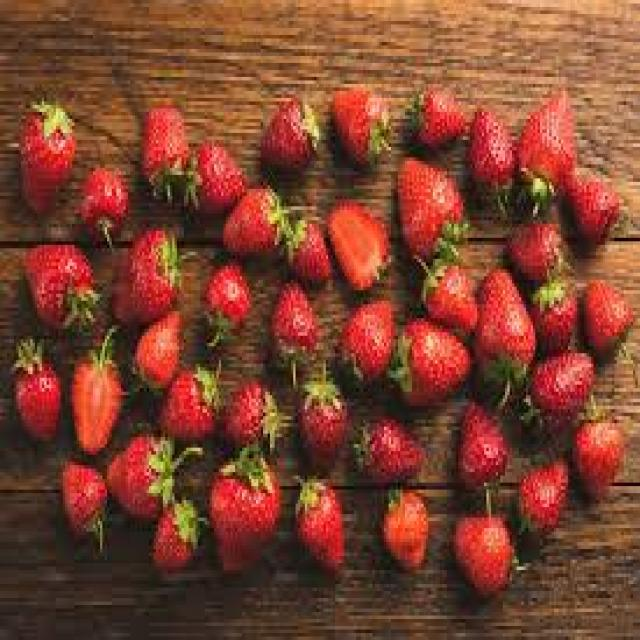strawberry: (12, 82, 83, 225), (202, 444, 280, 569), (472, 256, 537, 389), (388, 156, 472, 257), (516, 81, 577, 219), (386, 309, 469, 407), (15, 234, 97, 330), (116, 220, 185, 327), (65, 326, 122, 454), (447, 506, 522, 600), (132, 99, 192, 207), (290, 475, 352, 576), (4, 339, 64, 442), (451, 403, 514, 497), (99, 440, 173, 518), (268, 281, 324, 384), (325, 75, 391, 161), (466, 95, 515, 210), (326, 200, 388, 288), (256, 84, 318, 169), (585, 263, 636, 362), (51, 458, 112, 540), (570, 418, 630, 501), (355, 405, 427, 474), (530, 348, 597, 422), (294, 383, 348, 473), (143, 499, 204, 578), (376, 484, 432, 567), (225, 174, 282, 255), (517, 463, 569, 551), (403, 84, 472, 147), (202, 261, 250, 344), (152, 370, 217, 428)
